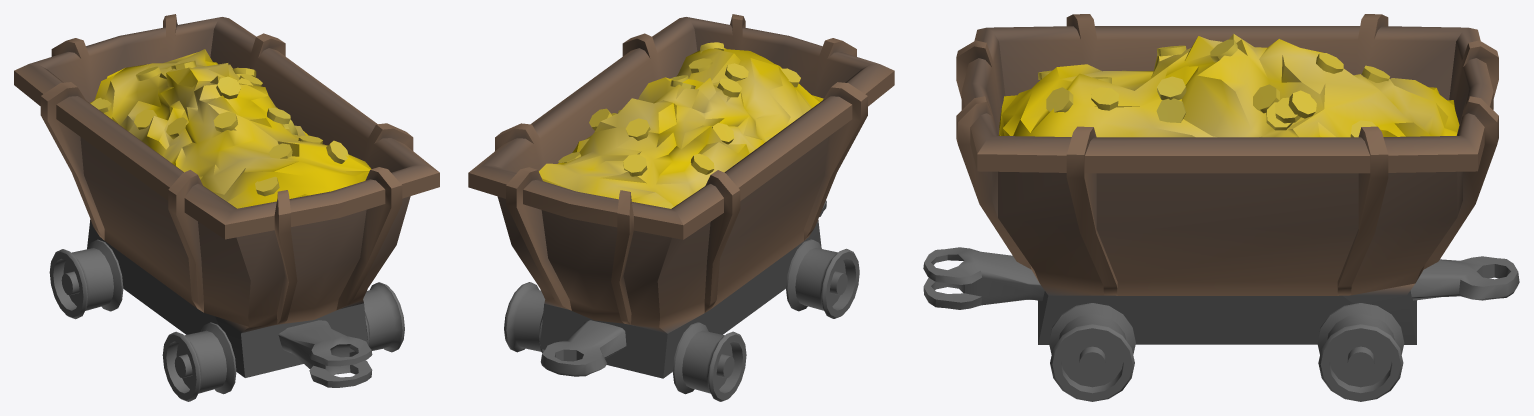
Rendered from mineCart.glb.
3 renders of one model, left to right at view 1: azimuth 30°, elevation 25°; view 2: azimuth 150°, elevation 25°; view 3: azimuth 270°, elevation 25°, orthographic. The views are drawn at different scales.
Parts seen in each view (by area): view 1: Object_3; view 2: Object_3; view 3: Object_3.
Part boxes in pixels (bbox=[...]): Object_3: bbox=[14, 14, 439, 401]; Object_3: bbox=[468, 14, 894, 401]; Object_3: bbox=[923, 14, 1519, 401].
Size of the model in its own units: 0.9509 by 0.9723 by 1.74.
